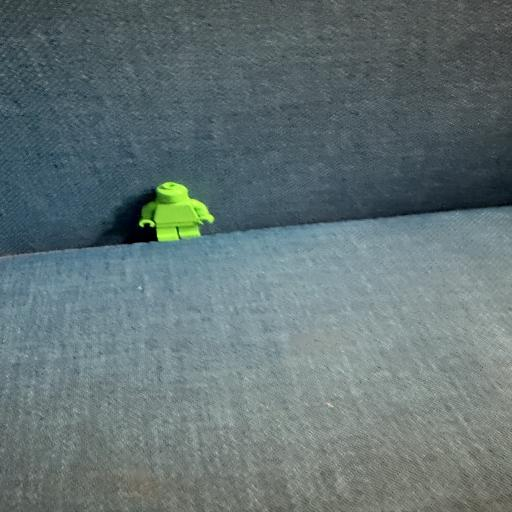green_minifig: (137, 181, 215, 242)
